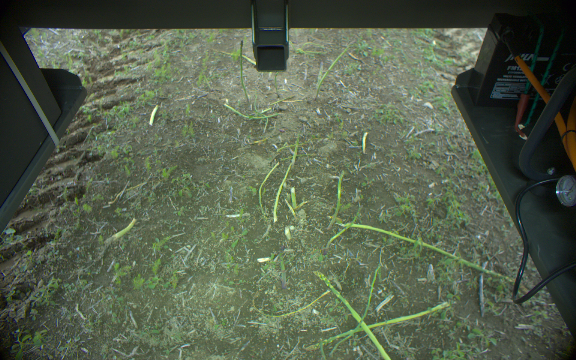aspa: (341, 220, 513, 286), (301, 300, 452, 355), (311, 267, 387, 360), (311, 33, 360, 102), (272, 163, 293, 222), (256, 161, 279, 213), (327, 169, 345, 231), (236, 38, 250, 109), (274, 242, 292, 290), (107, 216, 137, 241), (288, 131, 303, 167), (290, 187, 298, 211)
